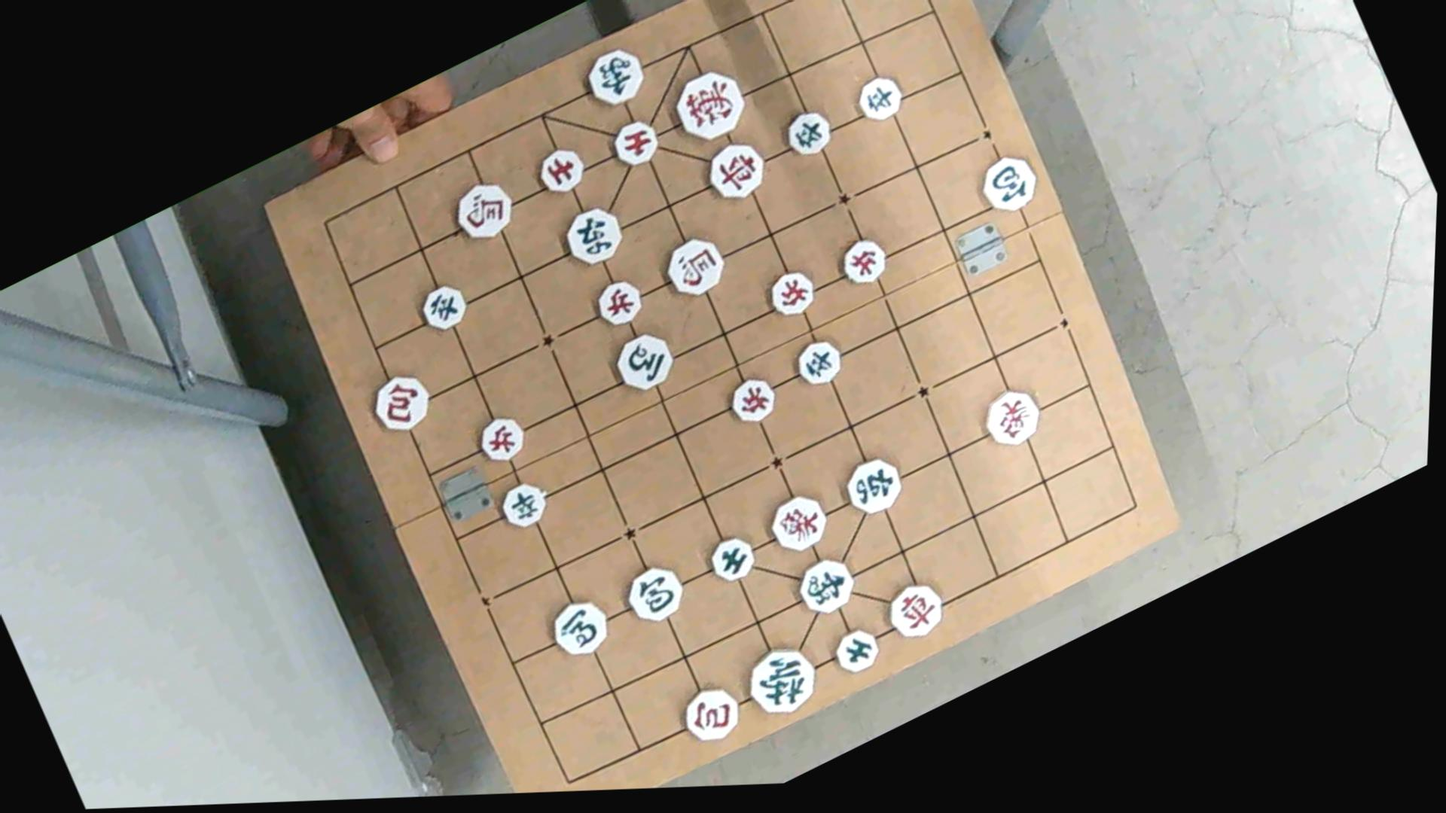cha_green: (554, 197, 630, 270), (837, 452, 911, 522)
cha_red: (876, 574, 952, 645), (696, 137, 771, 207)
jol_green: (848, 70, 908, 129), (413, 279, 476, 335), (778, 105, 837, 164), (789, 333, 849, 391), (493, 477, 554, 534)
jol_red: (756, 259, 824, 327), (585, 271, 649, 333), (831, 232, 895, 292), (719, 373, 780, 429), (469, 413, 530, 469)
ma_green: (541, 592, 617, 663), (607, 325, 682, 396)
ma_red: (653, 227, 733, 303), (446, 175, 520, 243)
po_green: (969, 148, 1045, 218), (615, 559, 690, 629)
po_red: (671, 678, 750, 754), (363, 365, 438, 435)
sa_green: (698, 525, 764, 591), (826, 626, 883, 680)
sa_red: (605, 112, 664, 172), (530, 144, 589, 200)
sang_green: (578, 41, 652, 112), (787, 553, 862, 621)
sang_red: (973, 379, 1048, 453), (759, 484, 832, 559)
wang_green: (735, 637, 827, 723)
wang_red: (664, 62, 754, 147)
